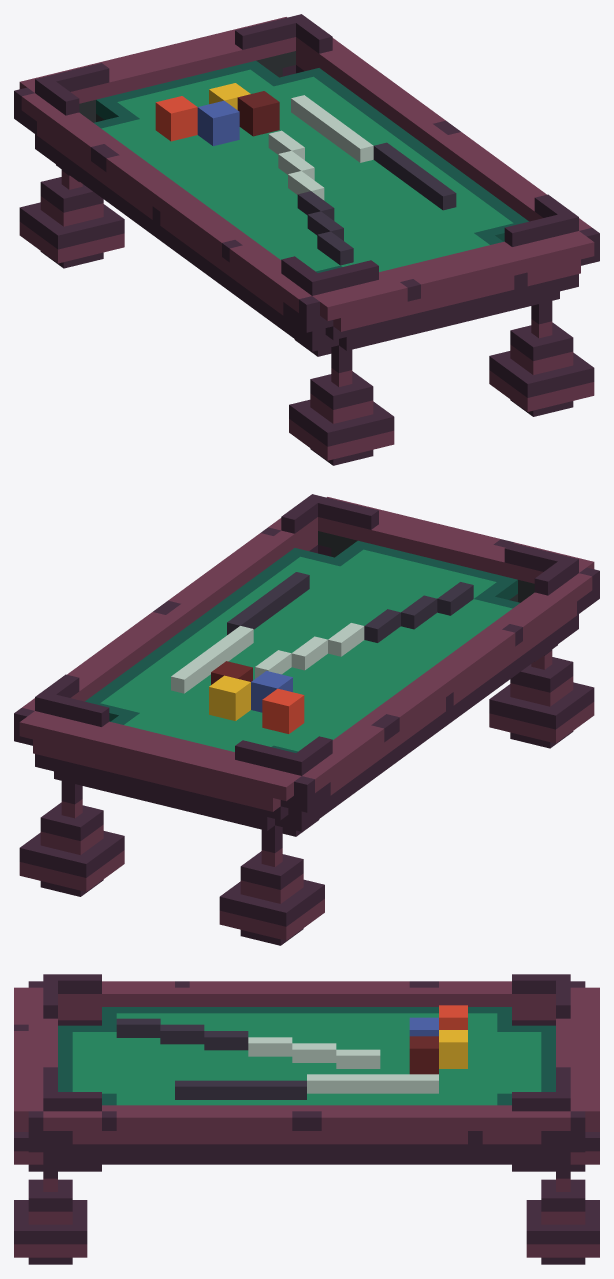
File: BilliarTable.obj
The picture shows the model from 3 angles, top to bottom: view 1: azimuth 30°, elevation 25°; view 2: azimuth 150°, elevation 25°; view 3: azimuth 270°, elevation 25°; orthographic projection. The views are drawn at different scales.
Size of the model in its own units: 2.2 by 1.3 by 4.
1 material, 1 textured.
